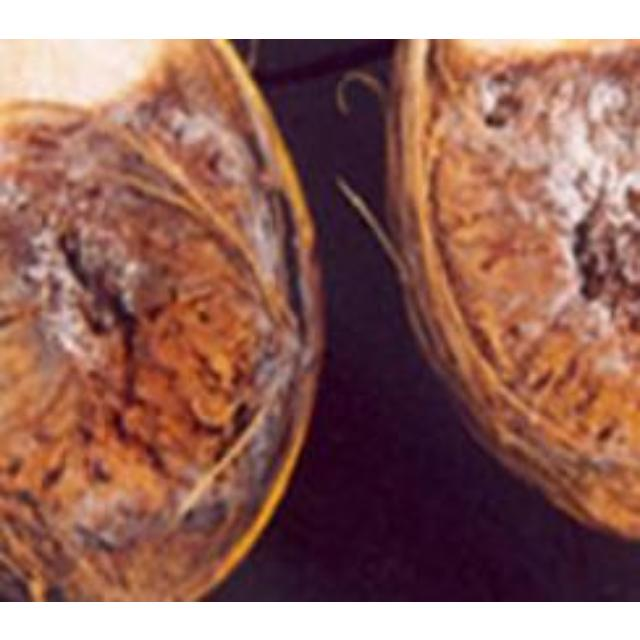damaged: (0, 38, 325, 599), (375, 38, 637, 547)
